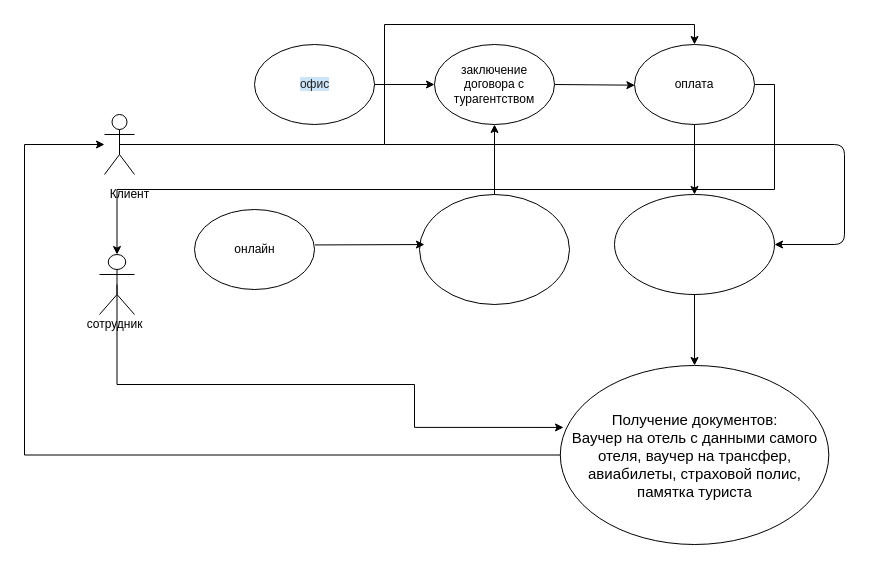
Image size: 870x562. Some labels were removed from this diagram. Each missing label, with the centre of its shape:
необходимый пакет документов: паспорт и страховое: point 694,244
отправление сканов заполненного и подписанного договора: point 494,249
